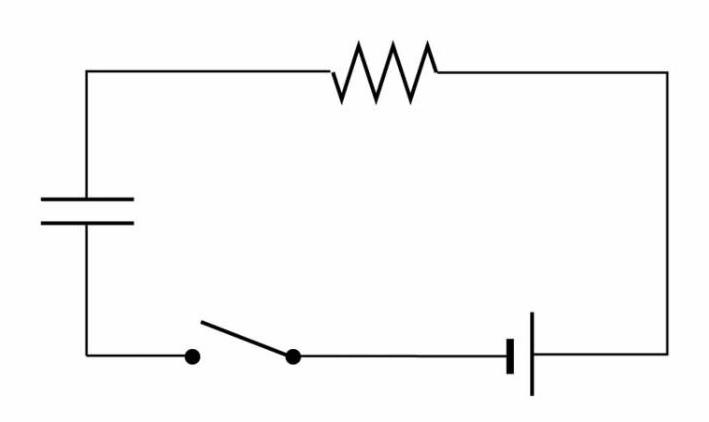Capacitor: (23, 152, 176, 289)
